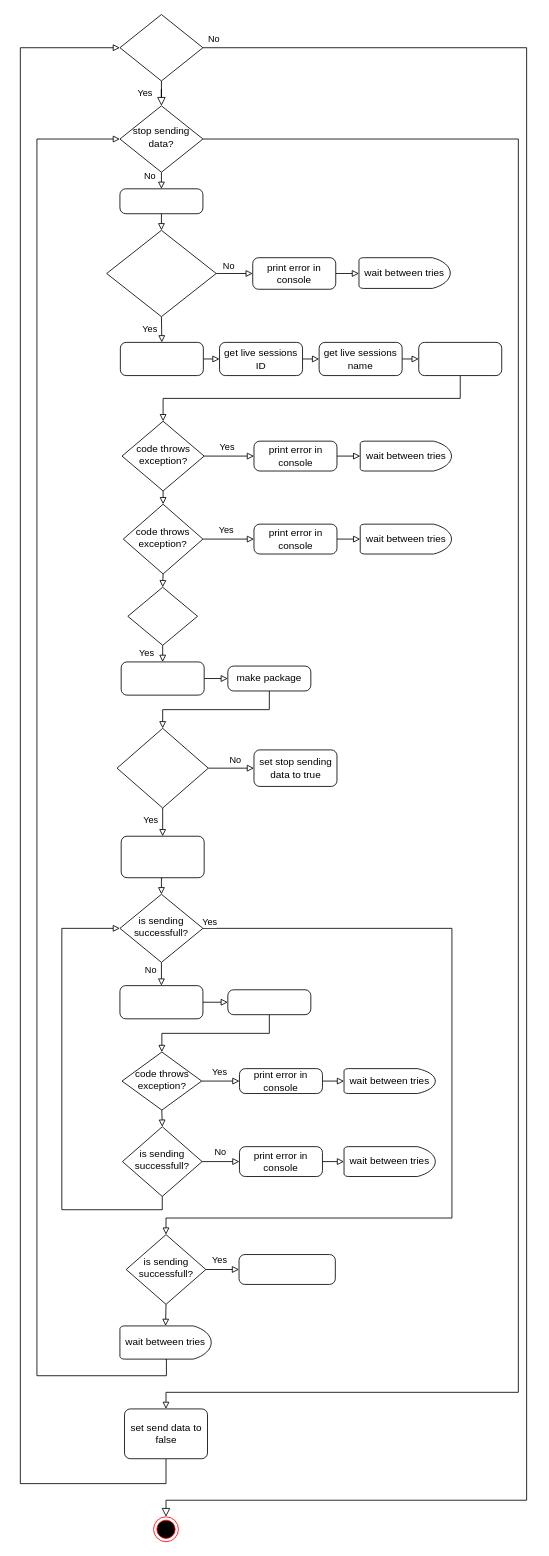
Some shapes in this 549 by 1556 pixel diagram are drawn without their labels. Here are the shapes that lost their labels. From the top down, the centre of each, then its label:
At (161,47): "send data?".
At (161,201): "get session".
At (161,273): "is the response HTTP status code ok?".
At (161,359): "convert response to json".
At (460,359): "set can send data to true".
At (162,615): "can send data?".
At (162,678): "prepare sensor 1 and 2 values".
At (162,767): "does the package have any sensor values?".
At (162,856): "set sending successfull to false".
At (161,1002): "convert package to json".
At (269,1002): "send package".
At (286,1269): "print sent package to console".
